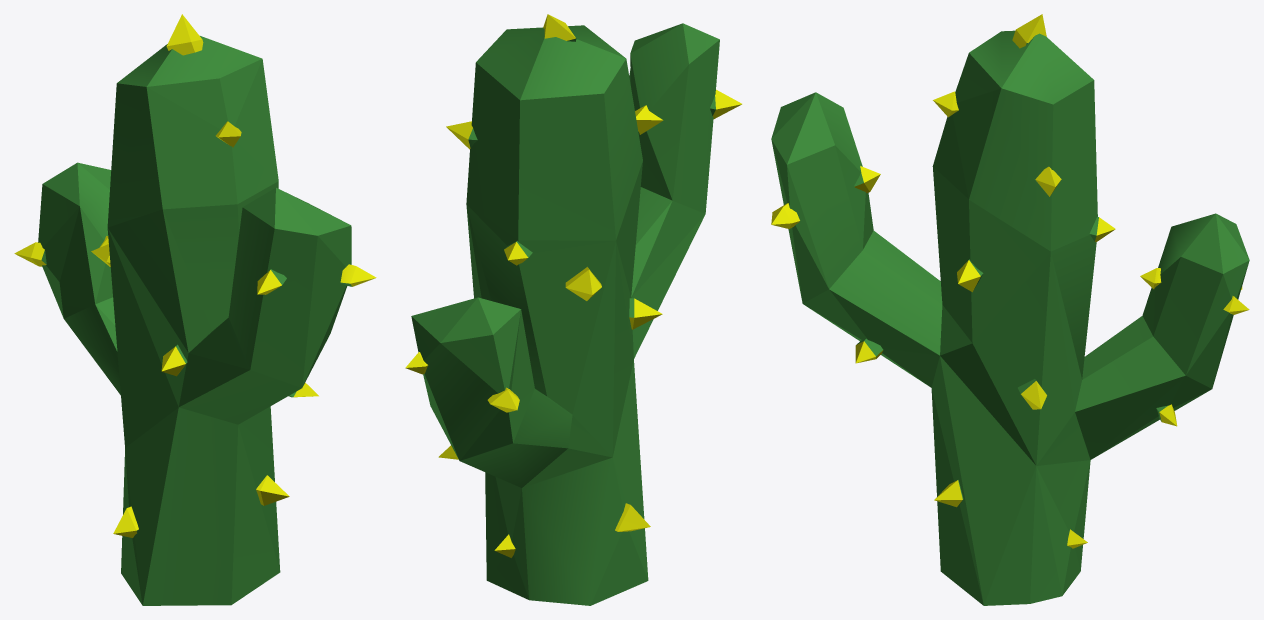
File: cactus.glb
3 renders of one model, left to right at view 1: azimuth 30°, elevation 25°; view 2: azimuth 150°, elevation 25°; view 3: azimuth 270°, elevation 25°, orthographic. The views are drawn at different scales.
Visible parts, largest first — view 1: tripo_node_7b2ce432-9adc-44d3-97fd-287e8c24bcf0; view 2: tripo_node_7b2ce432-9adc-44d3-97fd-287e8c24bcf0; view 3: tripo_node_7b2ce432-9adc-44d3-97fd-287e8c24bcf0.
Part boxes in pixels (bbox=[...]): tripo_node_7b2ce432-9adc-44d3-97fd-287e8c24bcf0: bbox=[14, 14, 376, 605]; tripo_node_7b2ce432-9adc-44d3-97fd-287e8c24bcf0: bbox=[405, 14, 742, 605]; tripo_node_7b2ce432-9adc-44d3-97fd-287e8c24bcf0: bbox=[771, 14, 1249, 605].
Bounding box in the file's own units: 0.6742 × 2.01 × 1.56.
